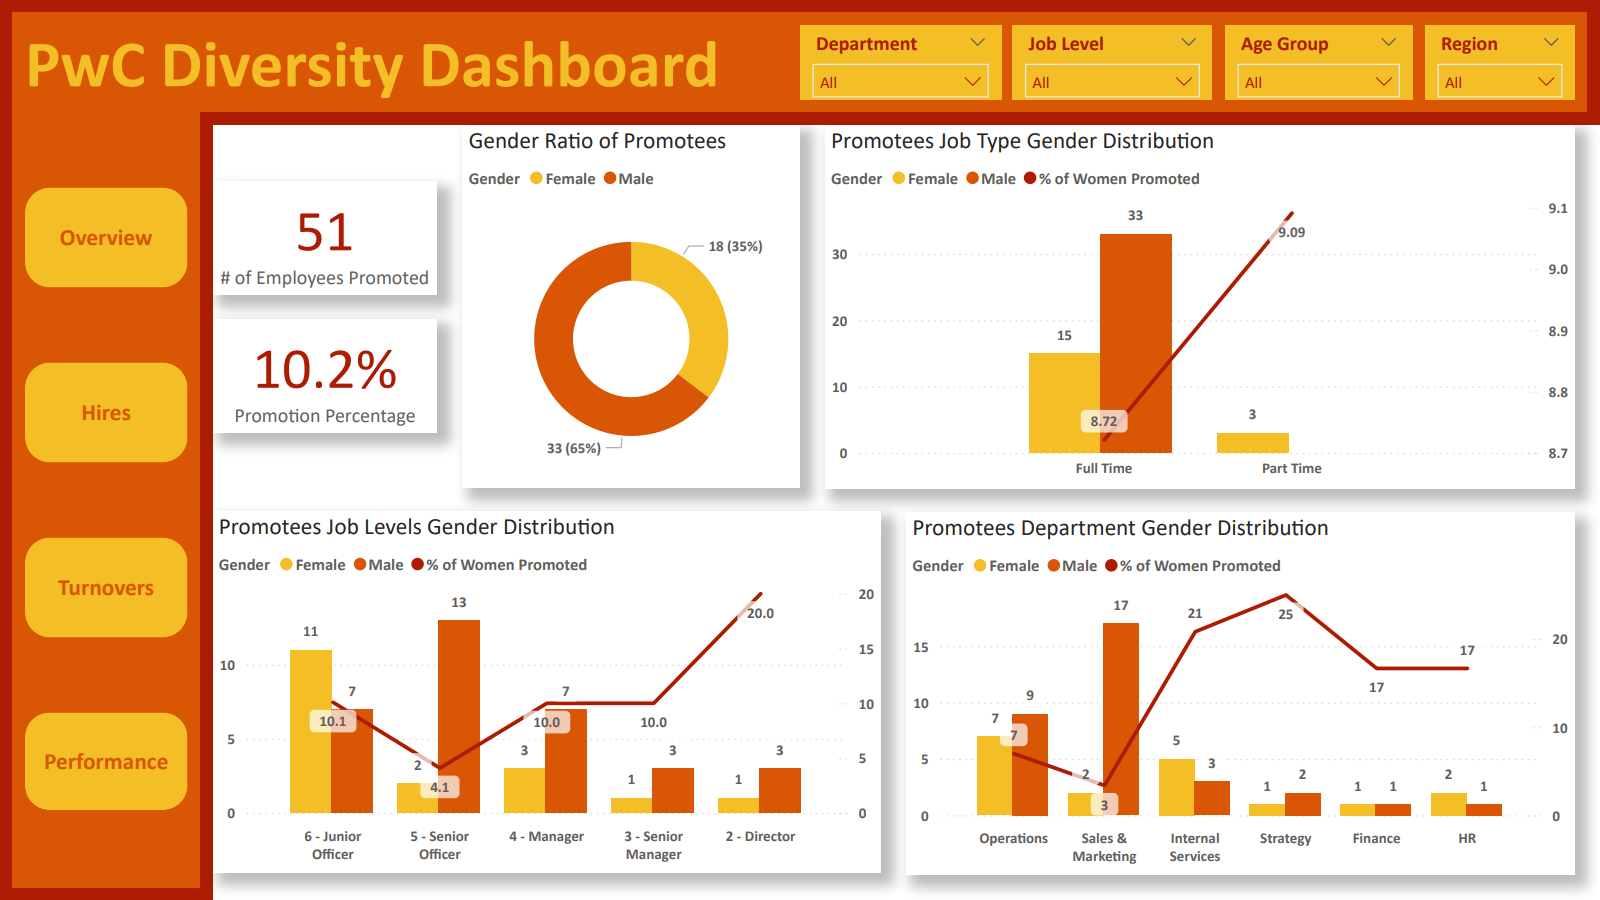

What the dashboard file says about the page in this screenshot:
{"tool":"powerbi","page":{"name":"Promotions","canvas":[1280,720],"ordinal":3},"visuals":[{"type":"shape","box":[0,0,1280,100],"z":0},{"type":"shape","box":[10,10,1260,80],"z":1000},{"type":"slicer","fields":{"Values":["Pharma Group AG.Department @01.07.2020"]},"box":[640,20,160.5,60.4],"z":2000},{"type":"slicer","fields":{"Values":["Pharma Group AG.Job Level after FY20 promotions"]},"box":[810,20,160,60.4],"z":3000},{"type":"slicer","fields":{"Values":["Pharma Group AG.Age group"]},"box":[980,20,150,60.4],"z":4000},{"type":"slicer","fields":{"Values":["Pharma Group AG.Region group: nationality 1"]},"box":[1140,20,120,60.4],"z":5000},{"type":"shape","box":[0,99,170,621],"z":6000},{"type":"shape","box":[10,88,150,622],"z":7000},{"type":"actionButton","box":[20,150,130,80],"z":8000},{"type":"actionButton","box":[20,290,130,80],"z":9000},{"type":"actionButton","box":[20,430,130,80],"z":10000},{"type":"actionButton","box":[20,570,130,78],"z":11000},{"type":"card","fields":{"Values":["Pharma Group AG.Number of Promotions"]},"box":[170,145,180,90.6],"z":12000},{"type":"donutChart","title":"Gender Ratio of Promotees","fields":{"Y":["Pharma Group AG.Gender Promotions"],"Series":["Pharma Group AG.Gender"]},"box":[370,100,270,290],"z":13000},{"type":"lineClusteredColumnComboChart","title":"Promotees Job Type Gender Distribution","fields":{"Category":["Pharma Group AG.Time type"],"Series":["Pharma Group AG.Gender"],"Y":["Pharma Group AG.Time Type Promotions"],"Y2":["Pharma Group AG.Women Promoted"]},"box":[660,100,600,290.9],"z":14000},{"type":"lineClusteredColumnComboChart","title":"Promotees Job Levels Gender Distribution","fields":{"Category":["Pharma Group AG.Job Level after FY20 promotions"],"Series":["Pharma Group AG.Gender"],"Y":["Pharma Group AG.Job Levels Promotion"],"Y2":["Pharma Group AG.% of Women Promoted"]},"box":[170,410,535,290],"z":15000},{"type":"lineClusteredColumnComboChart","title":"Promotees Department Gender Distribution","fields":{"Category":["Pharma Group AG.Department @01.07.2020"],"Y":["Pharma Group AG.Department Promotions"],"Series":["Pharma Group AG.Gender"],"Y2":["Pharma Group AG.% of Women Promoted"]},"box":[725,410,535,290],"z":16000},{"type":"card","fields":{"Values":["Pharma Group AG.Percent of Promotions"]},"box":[170,255,180,90.6],"z":17000}]}

Visuals, with their boxes in screenshot pixels (x1, y1, x2, y2), scaled from the page's 1280x720 canvas onto the 1600x900 screenshot:
shape: (0,0,1599,125)
shape: (12,12,1588,112)
slicer - Pharma Group AG.Department @01.07.2020: (800,25,1001,100)
slicer - Pharma Group AG.Job Level after FY20 promotions: (1012,25,1212,100)
slicer - Pharma Group AG.Age group: (1225,25,1412,100)
slicer - Pharma Group AG.Region group: nationality 1: (1425,25,1575,100)
shape: (0,124,212,899)
shape: (12,110,200,888)
actionButton: (25,188,188,288)
actionButton: (25,362,188,462)
actionButton: (25,538,188,638)
actionButton: (25,712,188,810)
card - Pharma Group AG.Number of Promotions: (212,181,438,294)
"Gender Ratio of Promotees" donutChart: (462,125,800,488)
"Promotees Job Type Gender Distribution" lineClusteredColumnComboChart: (825,125,1575,489)
"Promotees Job Levels Gender Distribution" lineClusteredColumnComboChart: (212,512,881,875)
"Promotees Department Gender Distribution" lineClusteredColumnComboChart: (906,512,1575,875)
card - Pharma Group AG.Percent of Promotions: (212,319,438,432)
